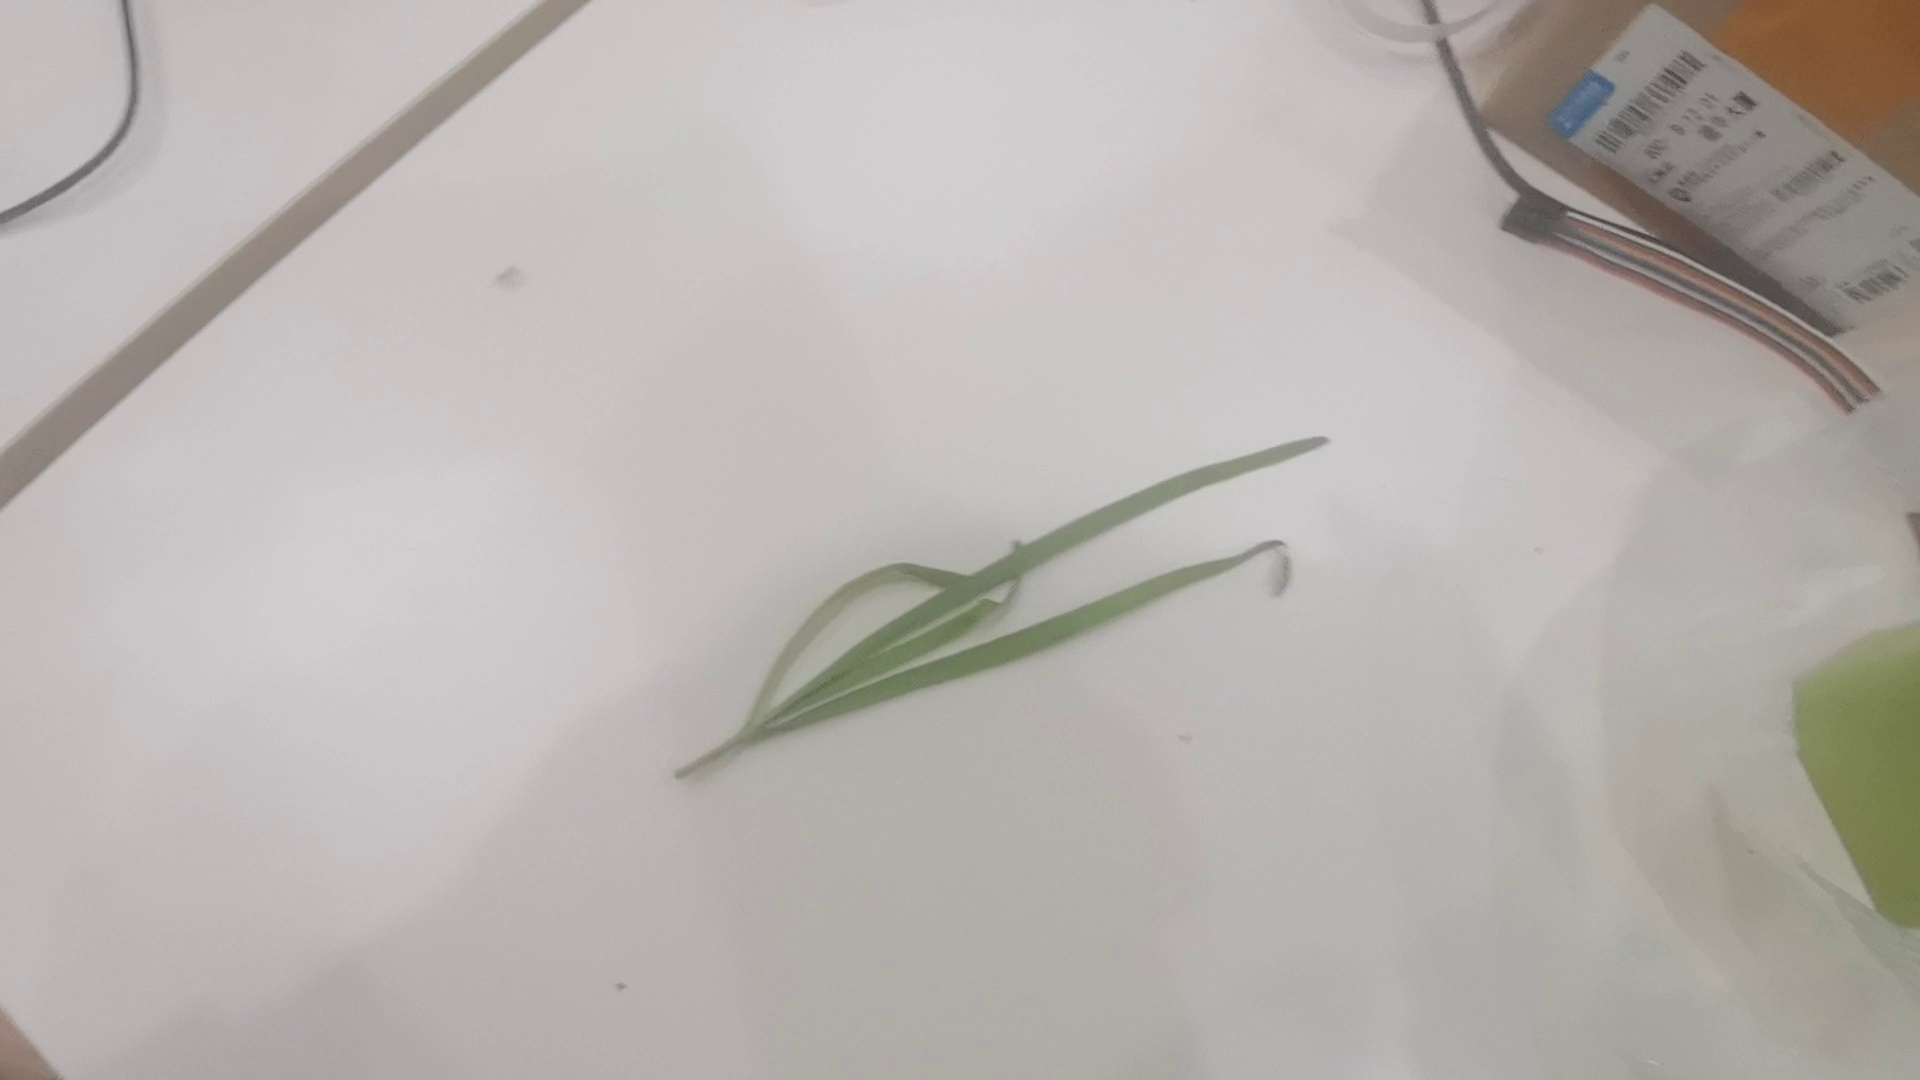chives: (636, 404, 1344, 799)
